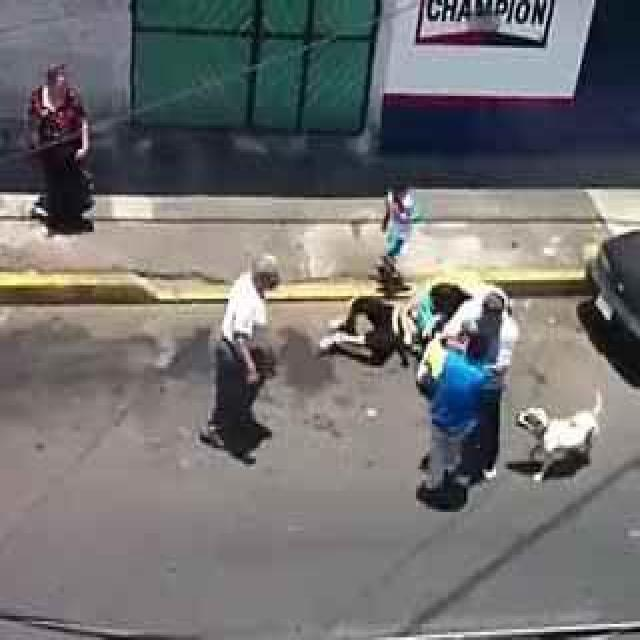fall: (306, 272, 448, 371)
